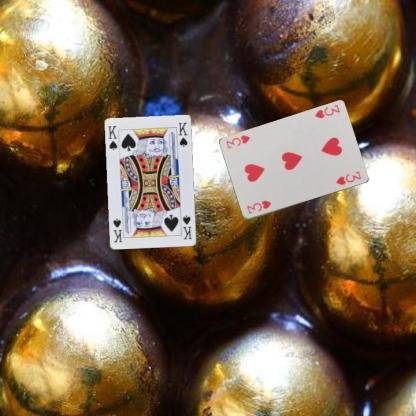3h: (312, 102, 341, 120), (244, 198, 272, 215)
Ks: (180, 213, 193, 241), (106, 124, 118, 151)
